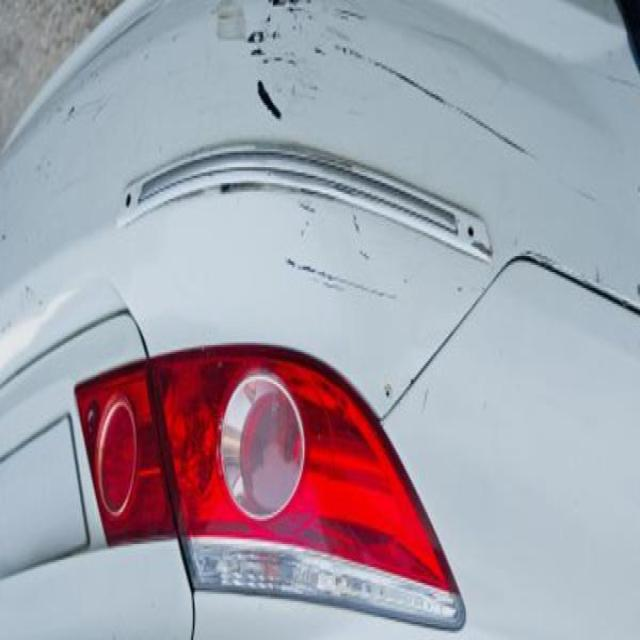scratch: (364, 46, 538, 164), (280, 242, 401, 308)
